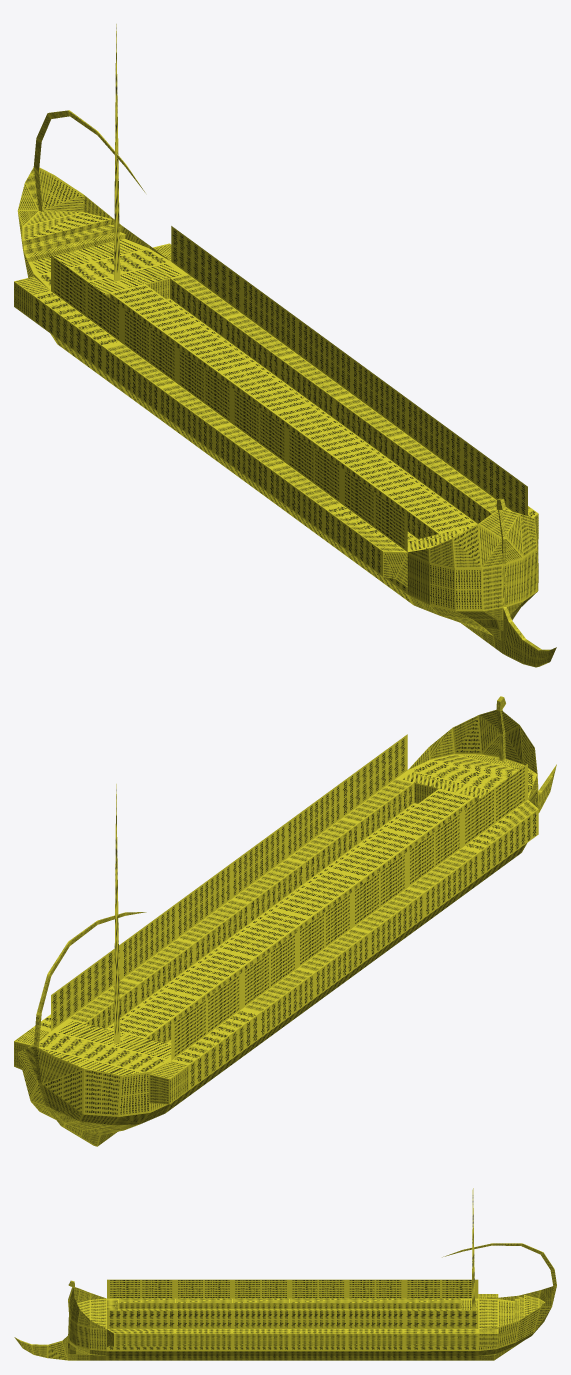
Rendered from kart_tri.dae.
3 renders of one model, top to bottom at view 1: azimuth 30°, elevation 25°; view 2: azimuth 150°, elevation 25°; view 3: azimuth 270°, elevation 25°, orthographic. The views are drawn at different scales.
Parts seen in each view (by area): view 1: Trireme; view 2: Trireme; view 3: Trireme.
Boxes of the visible parts, left/top/right/bottom form: Trireme: left=14, top=24, right=556, bottom=667; Trireme: left=14, top=696, right=556, bottom=1146; Trireme: left=14, top=1188, right=556, bottom=1360.
Size of the model in its own units: 13.13 by 76.19 by 28.6.
1 material, 1 textured.
